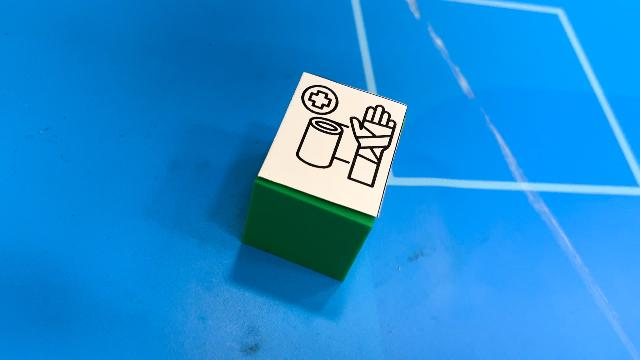bandage: (240, 71, 408, 281)
